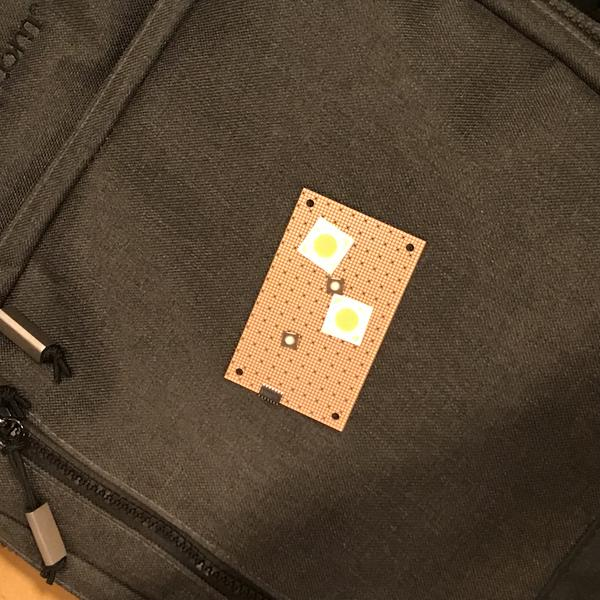board: (222, 185, 427, 435)
